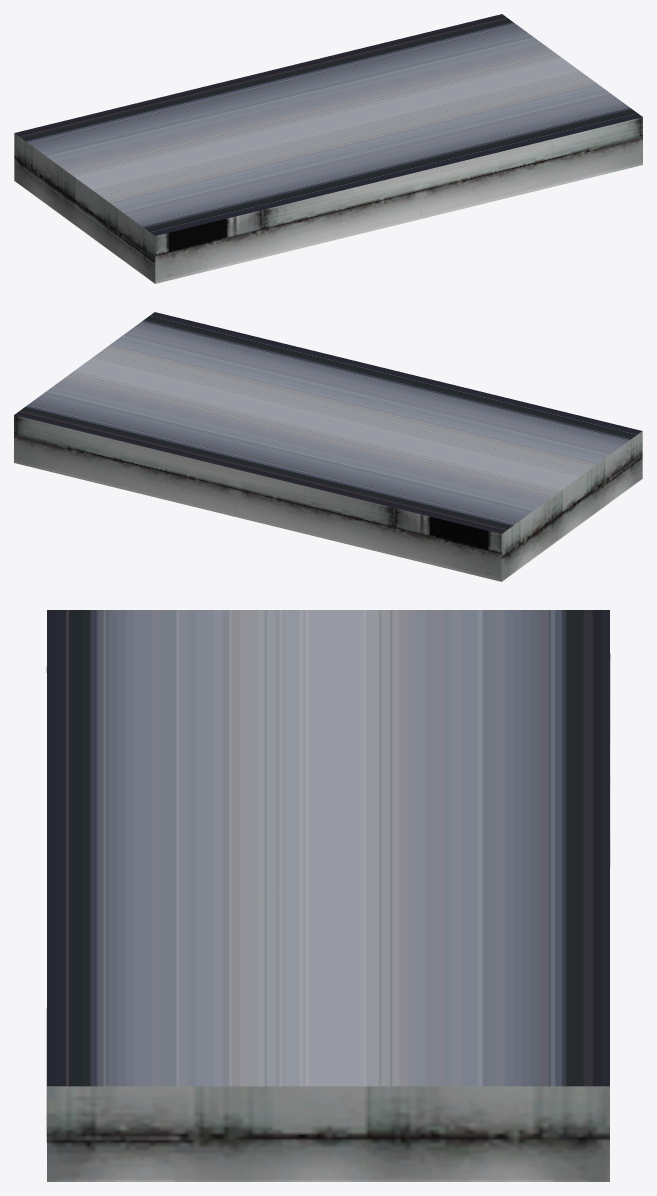
The model's file is light_ceiling.glb.
3 views of the same model, one above another, from view 1: azimuth 30°, elevation 25°; view 2: azimuth 150°, elevation 25°; view 3: azimuth 270°, elevation 25° (orthographic). The views are drawn at different scales.
Parts seen in each view (by area): view 1: light_ceiling; view 2: light_ceiling; view 3: light_ceiling.
Part boxes in pixels (box(x1,y1,x2,y2)): light_ceiling: box(14, 14, 642, 283); light_ceiling: box(14, 312, 642, 581); light_ceiling: box(46, 610, 610, 1181).
Size of the model in its own units: 1.22 by 0.1143 by 0.6098.
Materials: 1 (1 with a texture image).
